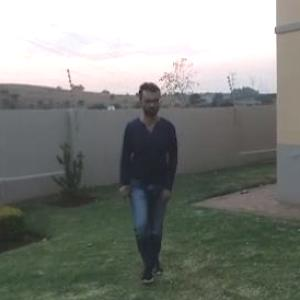follow: (118, 78, 187, 287)
